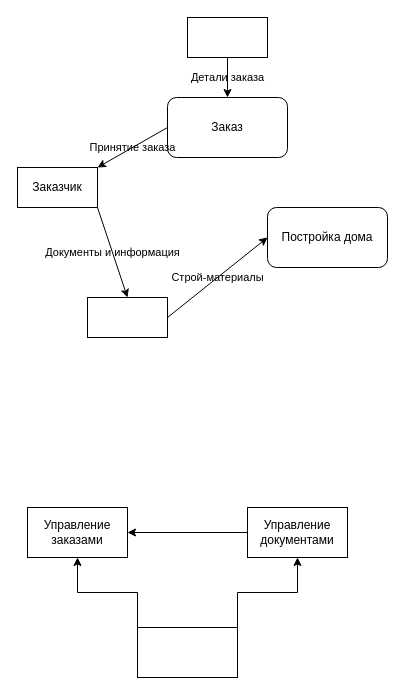
Image size: 405x695. Some labels were removed from this diagram. Here are the shapes that lost their labels. From the top down, the centre of each, then its label:
At (227,37): "Лицо организации".
At (127,317): "Строй-бригада".
At (187,652): "Управление информацией пользователей".
